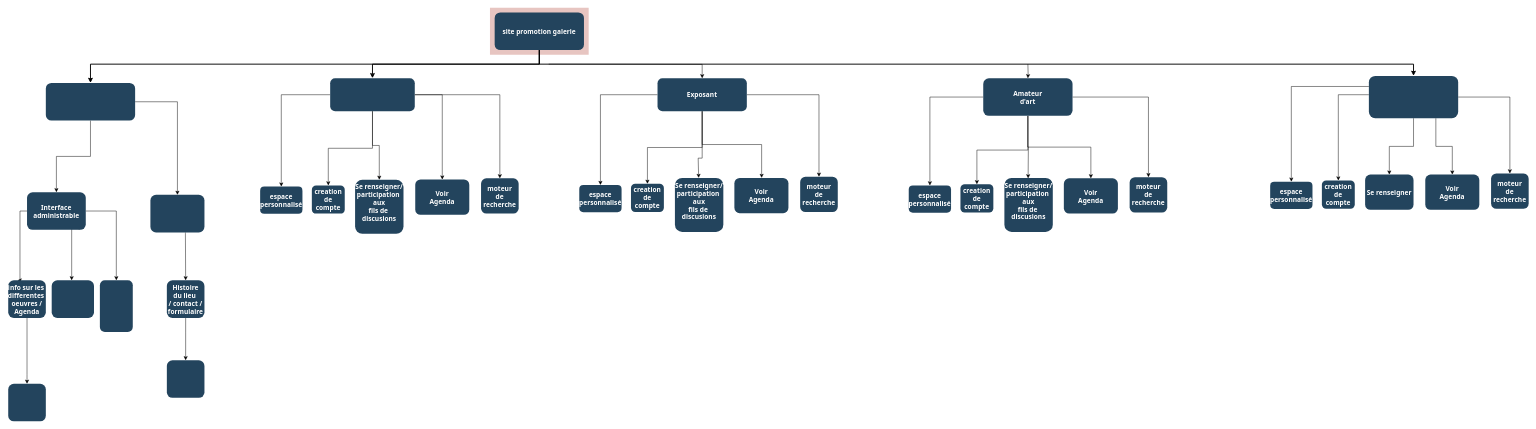
This 1536x429 diagram has some shape labels left out. The shapes that lost their labels are listed below. From the top down, each one's box as (x1, y1, x2, y2) in pixels, then its label:
(46, 83, 135, 120): Mr Bouilliez
(330, 78, 415, 111): Artiste
(1369, 76, 1458, 118): visiteur
(150, 195, 204, 232): information (à-propos)
(51, 280, 94, 318): gestions des droits / moderation commentaires
(100, 280, 133, 332): validation creations de comptes (admin)
(167, 360, 204, 398): Plan d acce visible
(8, 384, 46, 421): federe des publics de tout âges
